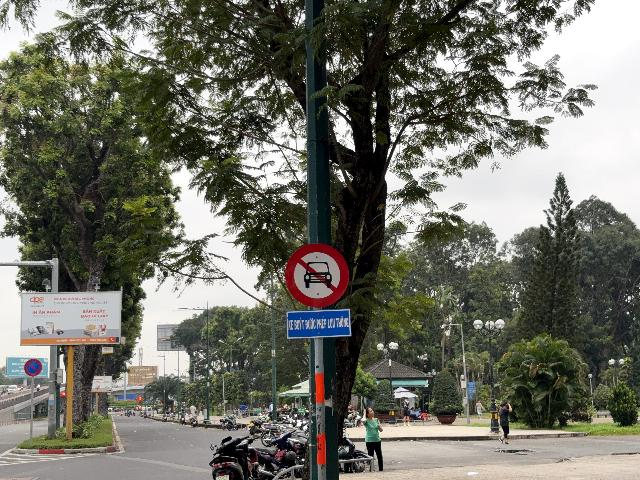cam-o-to: (286, 243, 348, 308)
